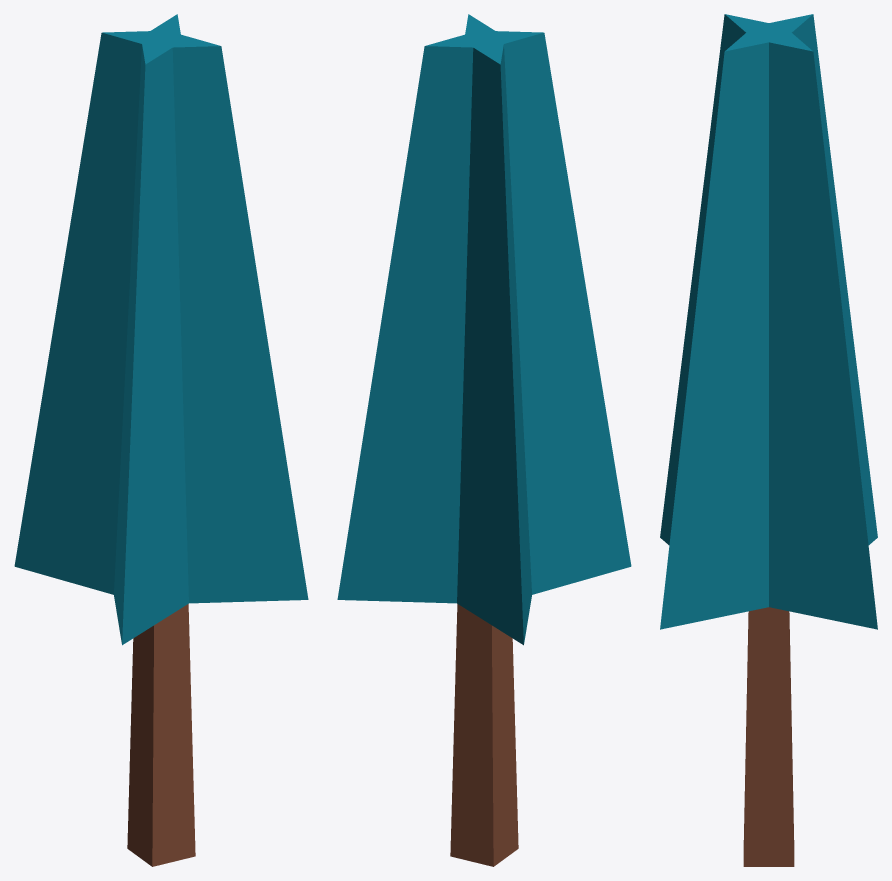
Rendered from Tree_27_summer_blue_mat.fbx.
3 renders of one model, left to right at view 1: azimuth 30°, elevation 25°; view 2: azimuth 150°, elevation 25°; view 3: azimuth 270°, elevation 25°, orthographic.
Visible parts, largest first — view 1: Tree_27_summer_blue_mat; view 2: Tree_27_summer_blue_mat; view 3: Tree_27_summer_blue_mat.
Part boxes in pixels (<box>): Tree_27_summer_blue_mat: <box>14,14,308,866</box>; Tree_27_summer_blue_mat: <box>337,14,631,866</box>; Tree_27_summer_blue_mat: <box>660,14,877,866</box>.
Bounding box in the file's own units: 63.19 × 263 × 63.19.
